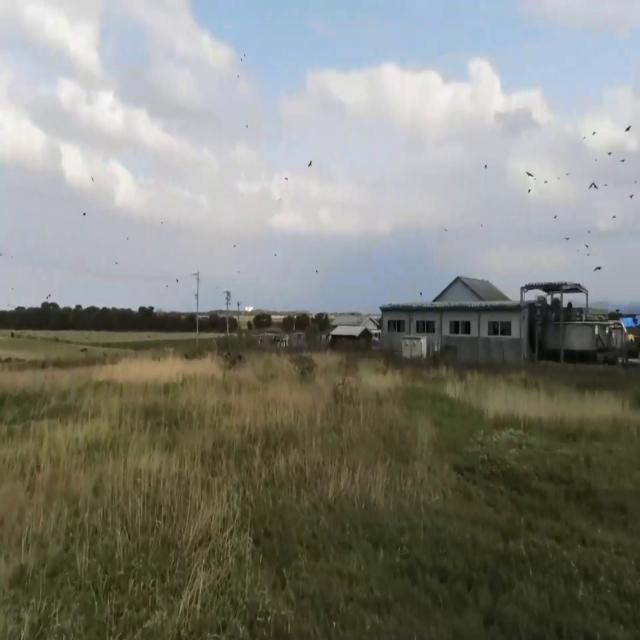bird: (588, 175, 598, 198), (594, 257, 602, 279)
